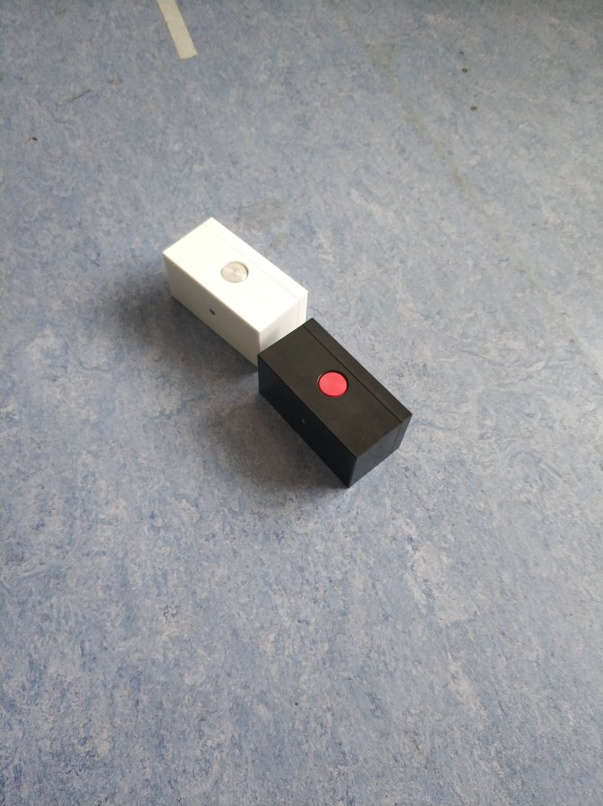black+black+red: (253, 312, 416, 492)
white+white+silver: (157, 215, 308, 371)
